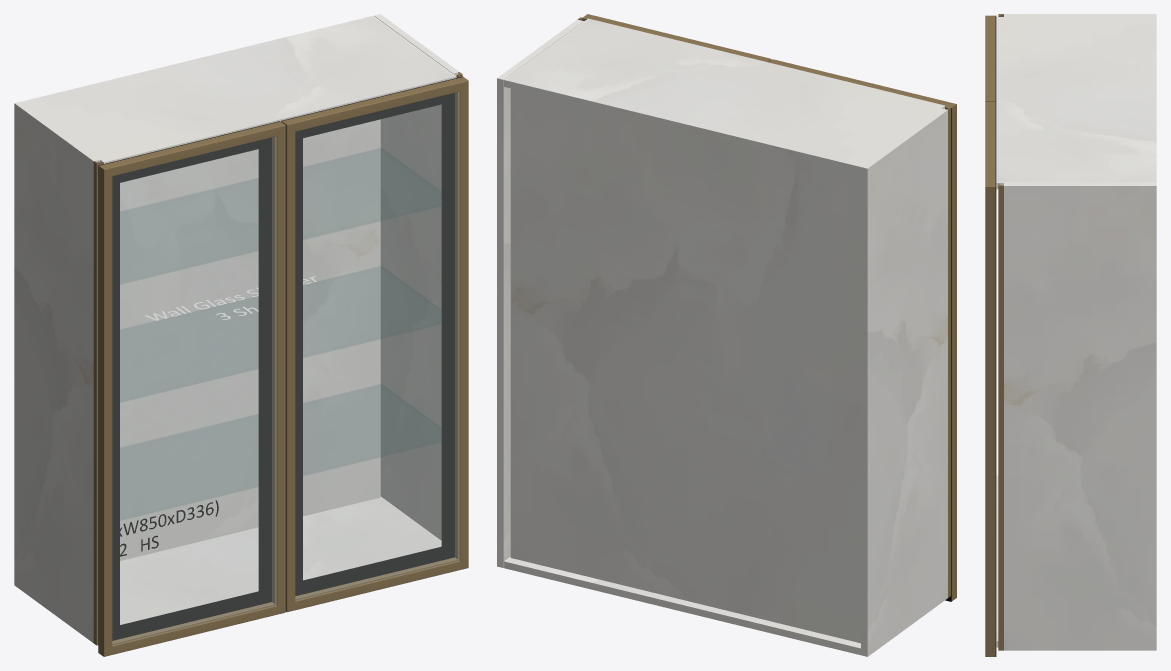
File: WC-SH-NHX-GL-3SG-2HS-XXX-850-1085-336-15.glb
3 views of the same model, side by side, from view 1: azimuth 30°, elevation 25°; view 2: azimuth 150°, elevation 25°; view 3: azimuth 270°, elevation 25° (orthographic). The views are drawn at different scales.
Visible parts, largest first — view 1: TP_node_2, Object_node_10, Object_node_14, TP_node_0, Neon 22 Profile ALU PROF NEON 20 L21XH22.5MM 3MTR S2/405 SEC (×8), TP, TP_node_1, TP_node, Object_node_12, Object_node_16, Object_node_18; view 2: TP_node_2, TP_node_0, TP, TP_node_1, Neon 22 Profile ALU PROF NEON 20 L21XH22.5MM 3MTR S2/405 SEC (×3), TP_node, Object_node_18; view 3: TP_node_1, TP, Neon 22 Profile ALU PROF NEON 20 L21XH22.5MM 3MTR S2/405 SEC (×3), Object_node_24, Object_node_16, TP_node, TP_node_0.
Part boxes in pixels (x1,y1,x2,y2): TP_node_2: [120, 119, 380, 560]; Object_node_10: [112, 136, 276, 645]; Object_node_14: [295, 92, 459, 600]; TP_node_0: [14, 101, 100, 642]; Neon 22 Profile ALU PROF NEON 20 L21XH22.5MM 3MTR S2/405 SEC (×8): [98, 77, 468, 656]; TP: [21, 15, 456, 164]; TP_node_1: [374, 14, 458, 540]; TP_node: [120, 496, 441, 624]; Object_node_12: [98, 121, 279, 652]; Object_node_16: [281, 76, 462, 596]; Object_node_18: [93, 161, 101, 645]; TP_node_2: [510, 88, 860, 643]; TP_node_0: [861, 108, 947, 656]; TP: [504, 18, 945, 173]; TP_node_1: [497, 19, 583, 567]; Neon 22 Profile ALU PROF NEON 20 L21XH22.5MM 3MTR S2/405 SEC (×3): [582, 14, 956, 601]; TP_node: [504, 557, 860, 655]; Object_node_18: [945, 106, 950, 597]; TP_node_1: [1004, 183, 1156, 650]; TP: [996, 17, 1156, 189]; Neon 22 Profile ALU PROF NEON 20 L21XH22.5MM 3MTR S2/405 SEC (×3): [985, 15, 995, 656]; Object_node_24: [998, 183, 1003, 650]; Object_node_16: [995, 102, 996, 656]; TP_node: [996, 475, 998, 647]; TP_node_0: [1004, 14, 1156, 16].
Size of what is drawn, in the model's own units: 0.85 by 1.09 by 0.358.
7 materials, 1 textured.
